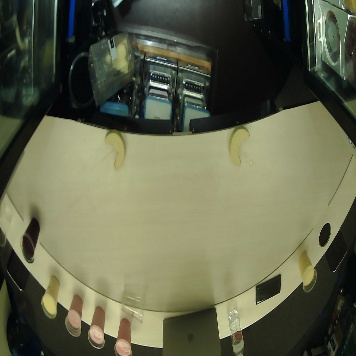full_cup: (20, 218, 41, 263), (40, 274, 61, 319), (64, 292, 83, 335), (87, 305, 106, 348), (114, 316, 133, 356), (298, 250, 317, 290)
puck: (107, 131, 126, 169), (231, 126, 250, 164)
